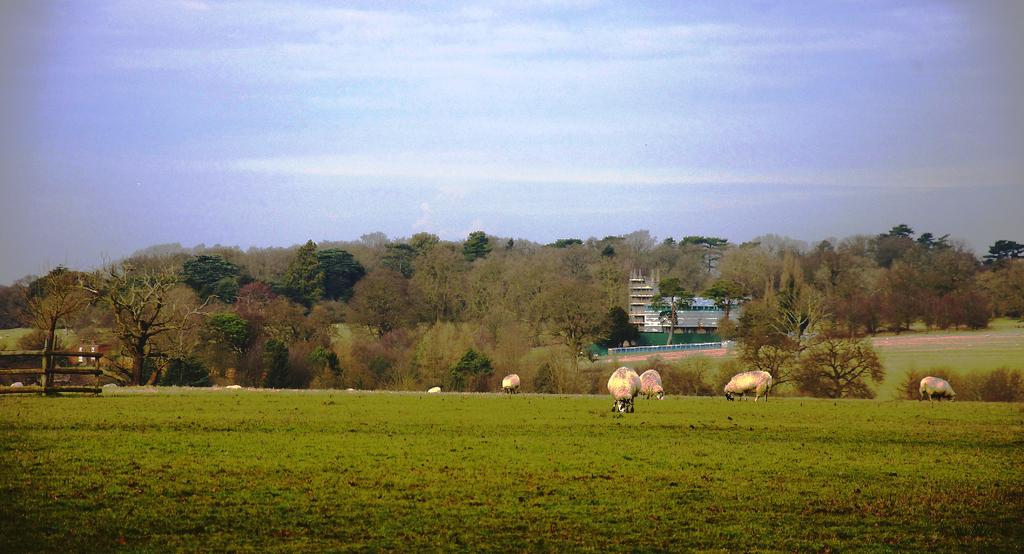Sheep: (606, 366, 641, 414), (724, 370, 774, 403), (915, 376, 957, 402), (638, 368, 666, 403), (498, 371, 522, 395)
